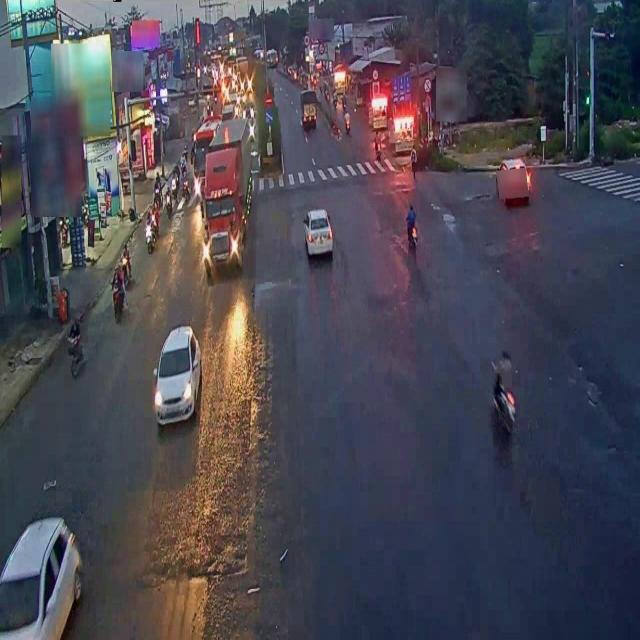car: (0, 517, 80, 640), (154, 327, 200, 422), (300, 198, 338, 264)
motorcycle: (418, 216, 436, 278)
truck: (202, 118, 250, 265)
